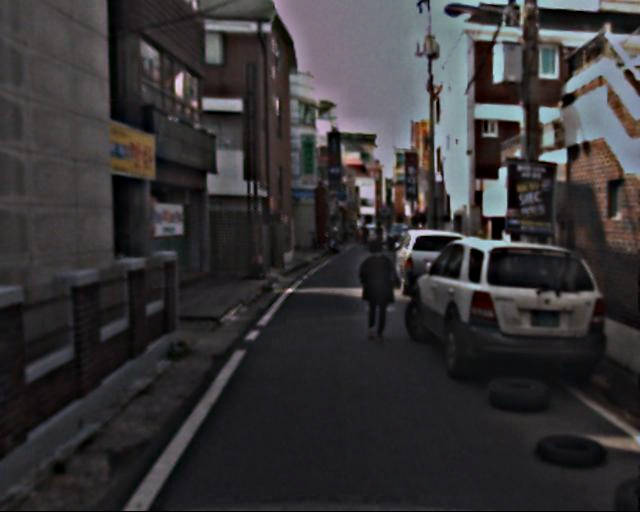person: (351, 237, 395, 345), (359, 220, 384, 247)
